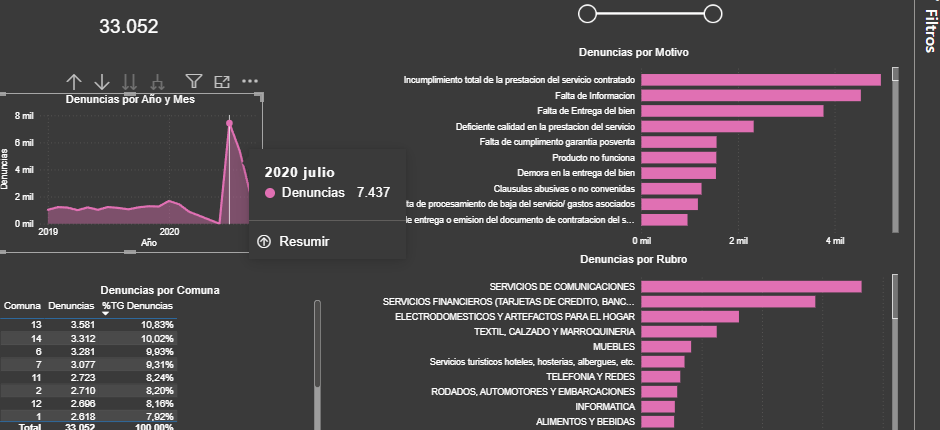

The page's visual inventory and layout, read from the dashboard file:
{"tool":"powerbi","page":{"name":"Página 1","canvas":[1280,720],"ordinal":0},"visuals":[{"type":"card","title":"Total de Denuncias","fields":{"Values":["denuncias-defensa-del-consumidor.Denuncias"]},"box":[51.2,33.7,297.1,134.6],"z":0},{"type":"areaChart","fields":{"Category":["denuncias-defensa-del-consumidor.Fecha.Variación.Jerarquía de fechas.Año","denuncias-defensa-del-consumidor.Fecha.Variación.Jerarquía de fechas.Mes"],"Y":["denuncias-defensa-del-consumidor.Denuncias"]},"box":[17.3,201.6,367.2,218.9],"z":1000},{"type":"barChart","title":"Denuncias por Motivo","fields":{"Y":["denuncias-defensa-del-consumidor.Denuncias"],"Category":["denuncias-defensa-del-consumidor.Motivo_Denuncia"]},"box":[525.4,136.1,737.6,283.9],"z":2000},{"type":"barChart","fields":{"Y":["denuncias-defensa-del-consumidor.Denuncias"],"Category":["denuncias-defensa-del-consumidor.Rubro"]},"box":[525.6,420.5,737.3,296.6],"z":3000},{"type":"tableEx","title":"Denuncias por Comuna","fields":{"Values":["denuncias-defensa-del-consumidor.Comuna","denuncias-defensa-del-consumidor.Denuncias","Divide(denuncias-defensa-del-consumidor.Denuncias, ScopedEval(denuncias-defensa-del-consumidor.Denuncias, []))"]},"box":[16.8,463.6,451.9,211.7],"z":4000},{"type":"slicer","fields":{"Values":["denuncias-defensa-del-consumidor.Fecha"]},"box":[802,17.6,222.4,95.1],"z":5000}]}

Visuals, with their boxes on the page's 1280x720 design canvas (x1, y1, x2, y2). These are canvas units, not pixel positions in the 940x430 screenshot, which may show the page scaled, cropped or inside an application window:
"Total de Denuncias" card: box=[51, 34, 348, 168]
areaChart - denuncias-defensa-del-consumidor.Fecha.Variación.Jerarquía de fechas.Año x denuncias-defensa-del-consumidor.Fecha.Variación.Jerarquía de fechas.Mes: box=[17, 202, 384, 420]
"Denuncias por Motivo" barChart: box=[525, 136, 1263, 420]
barChart - denuncias-defensa-del-consumidor.Denuncias x denuncias-defensa-del-consumidor.Rubro: box=[526, 420, 1263, 717]
"Denuncias por Comuna" tableEx: box=[17, 464, 469, 675]
slicer - denuncias-defensa-del-consumidor.Fecha: box=[802, 18, 1024, 113]
